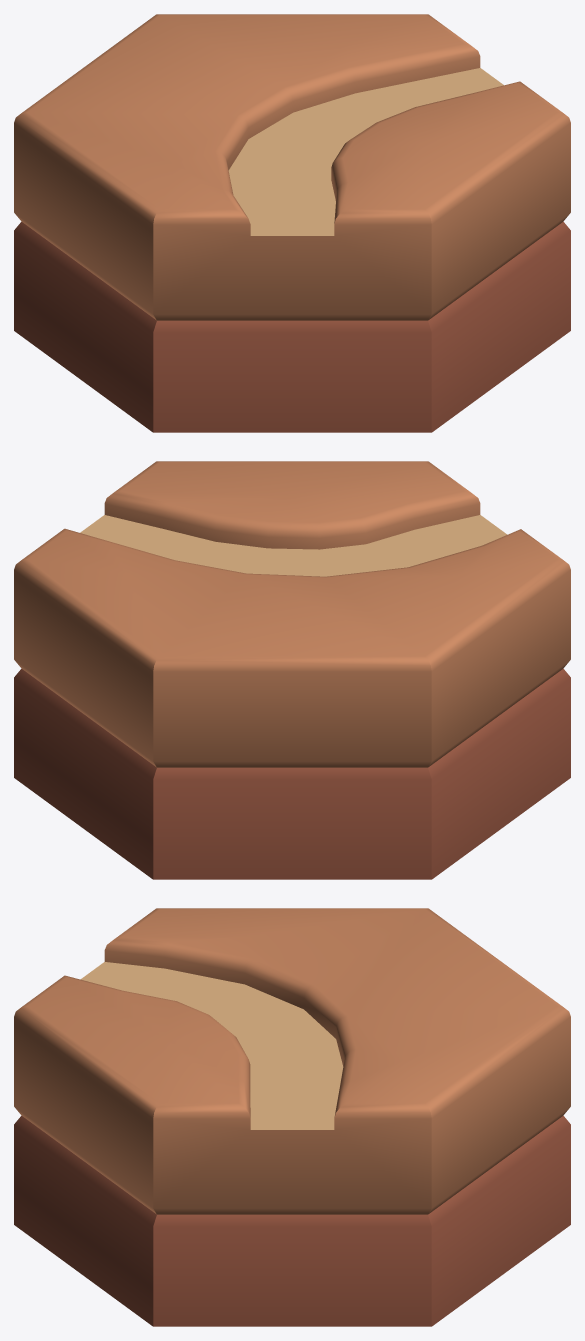
Rendered from hex_rock_roadD_detail.glb.
3 views of the same model, one above another, from view 1: azimuth 30°, elevation 25°; view 2: azimuth 150°, elevation 25°; view 3: azimuth 270°, elevation 25° (orthographic).
Parts seen in each view (by area): view 1: hex_rock_roadD_detail; view 2: hex_rock_roadD_detail; view 3: hex_rock_roadD_detail.
Boxes of the visible parts, x1,y1,x2,y2 form: hex_rock_roadD_detail: (14, 14, 570, 432); hex_rock_roadD_detail: (14, 461, 570, 879); hex_rock_roadD_detail: (14, 908, 570, 1326).
Bounding box in the file's own units: 3.82 × 1.91 × 4.41.
